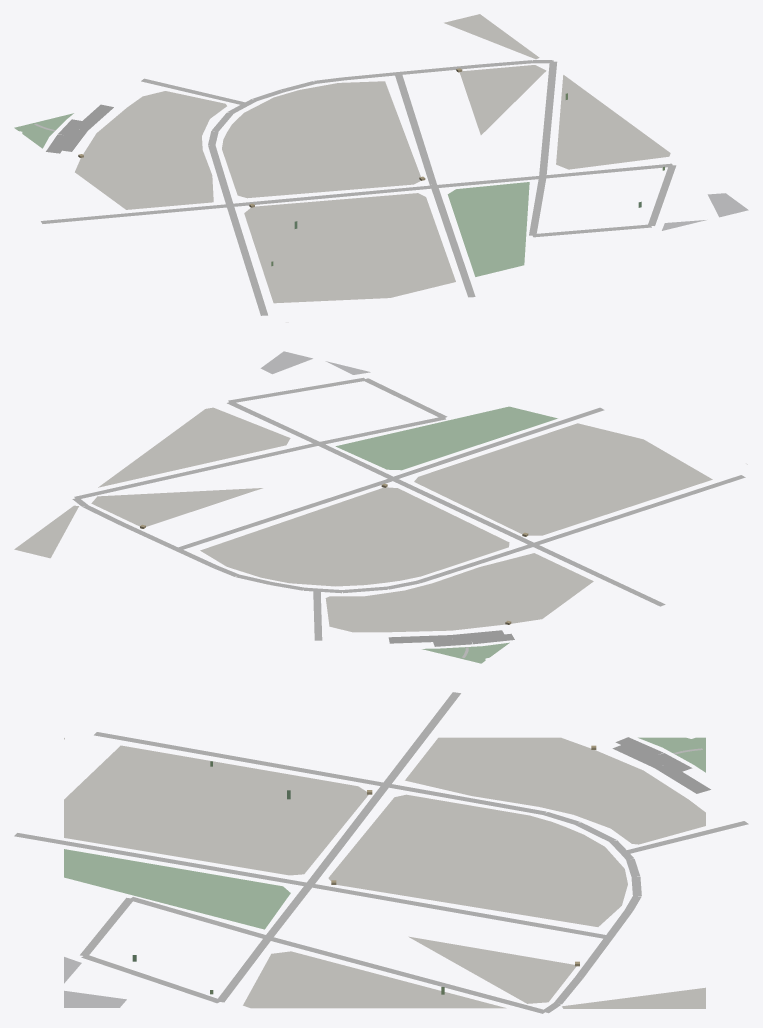
The picture shows the model from 3 angles, top to bottom: view 1: azimuth 30°, elevation 25°; view 2: azimuth 150°, elevation 25°; view 3: azimuth 270°, elevation 25°; orthographic projection. The views are drawn at different scales.
Size of the model in its own units: 593 by 8.59 by 572.
